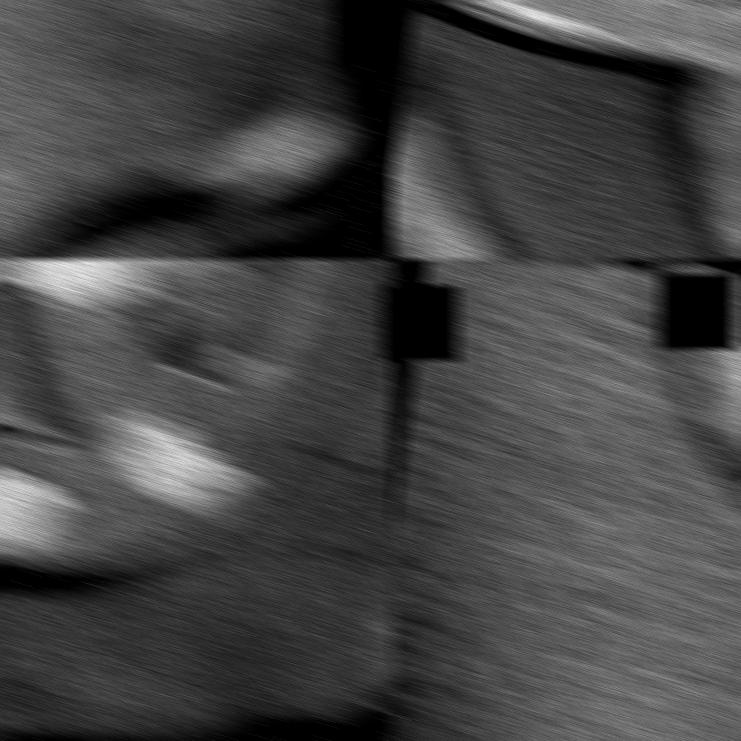Airbag: (0, 258, 394, 741), (389, 258, 741, 741), (0, 0, 394, 259), (389, 0, 741, 259)
